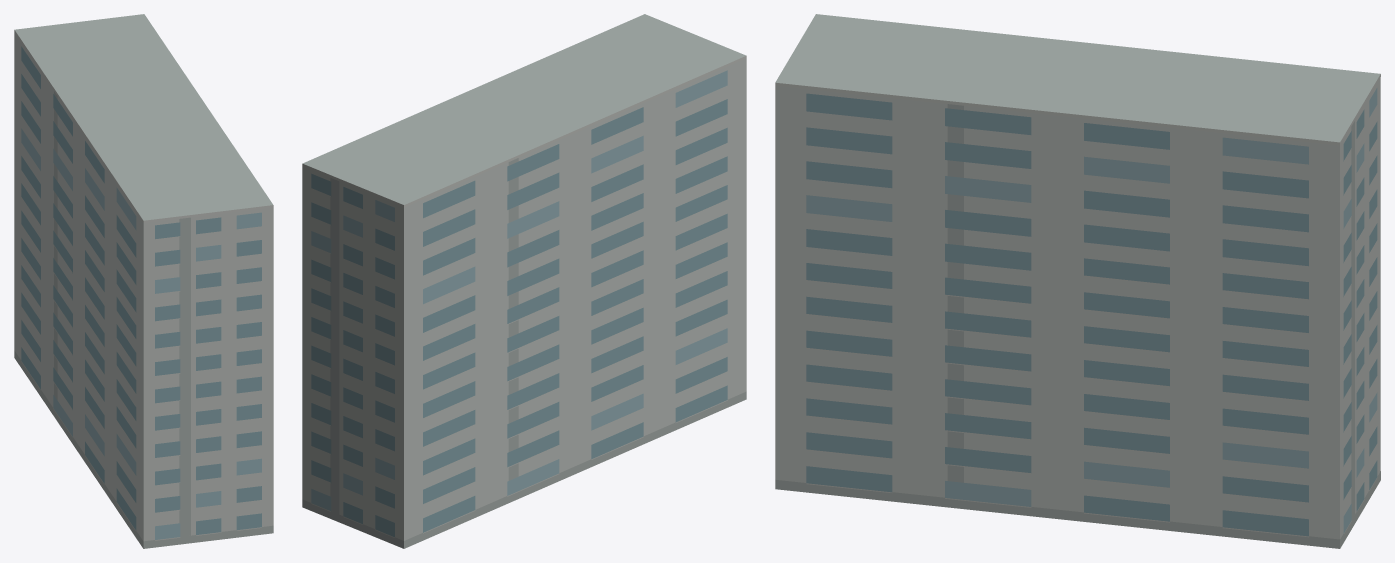
File: residential-8e381078-55e8-489d-9e2e-485b5f6ba150.glb
3 renders of one model, left to right at view 1: azimuth 30°, elevation 25°; view 2: azimuth 150°, elevation 25°; view 3: azimuth 270°, elevation 25°, orthographic. The views are drawn at different scales.
Visible parts, largest first — view 1: residential-8e381078-55e8-489d-9e2e-485b5f6ba150.tmp; view 2: residential-8e381078-55e8-489d-9e2e-485b5f6ba150.tmp; view 3: residential-8e381078-55e8-489d-9e2e-485b5f6ba150.tmp.
Boxes of the visible parts, bbox=[...] form: residential-8e381078-55e8-489d-9e2e-485b5f6ba150.tmp: bbox=[14, 14, 273, 548]; residential-8e381078-55e8-489d-9e2e-485b5f6ba150.tmp: bbox=[302, 14, 746, 548]; residential-8e381078-55e8-489d-9e2e-485b5f6ba150.tmp: bbox=[775, 14, 1380, 548].
Bounding box in the file's own units: 21.69 × 32 × 43.21.
